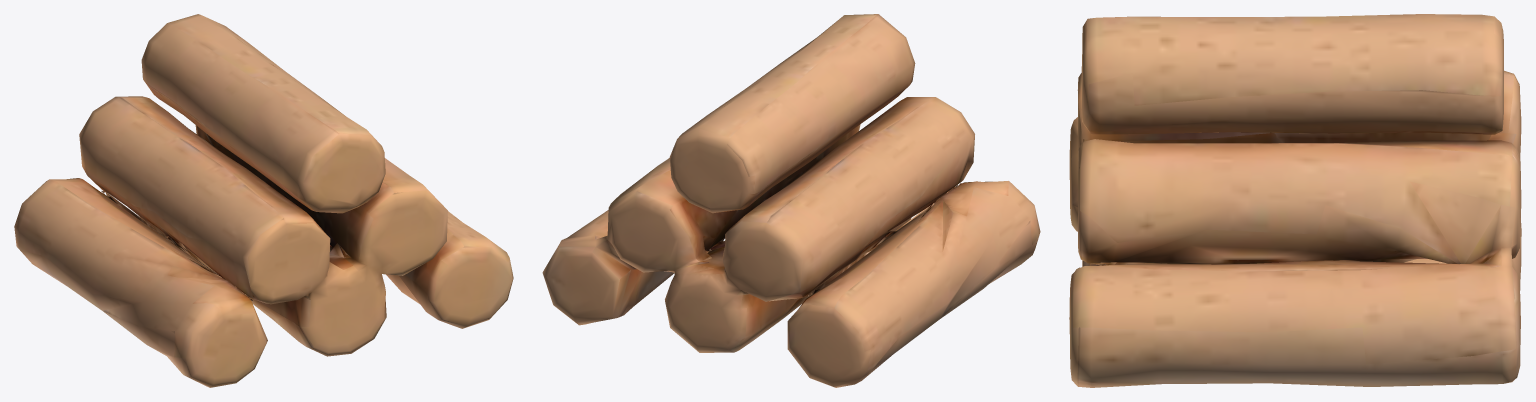
The model's file is tree2.glb.
3 views of the same model, side by side, from view 1: azimuth 30°, elevation 25°; view 2: azimuth 150°, elevation 25°; view 3: azimuth 270°, elevation 25° (orthographic). The views are drawn at different scales.
Size of the model in its own units: 1.91 by 1.24 by 1.79.
1 material, 1 textured.
